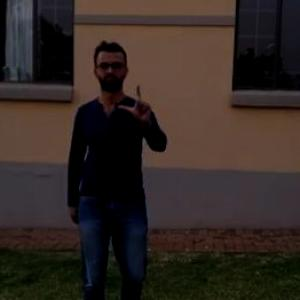land_hand: (113, 74, 157, 128)
